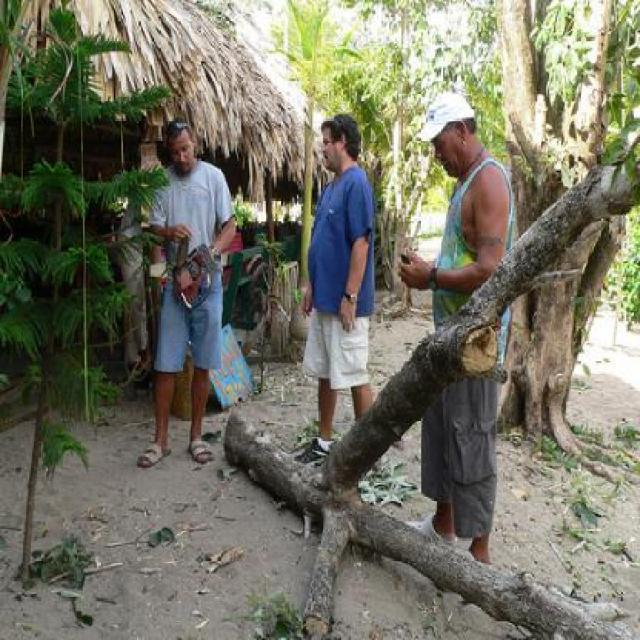Chainsaw: (172, 226, 220, 314)
